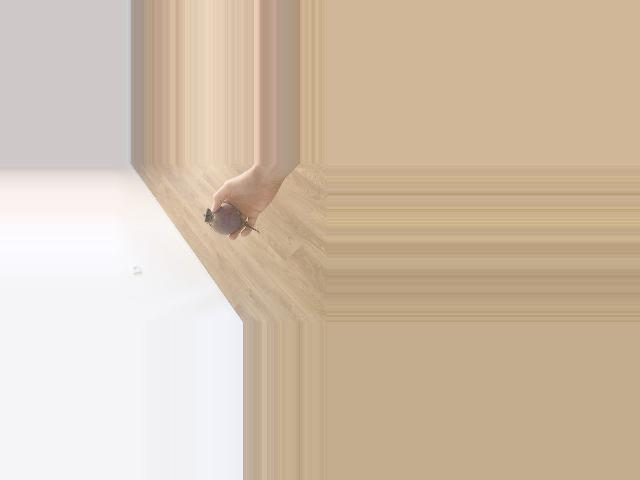beet: (204, 203, 259, 236)
